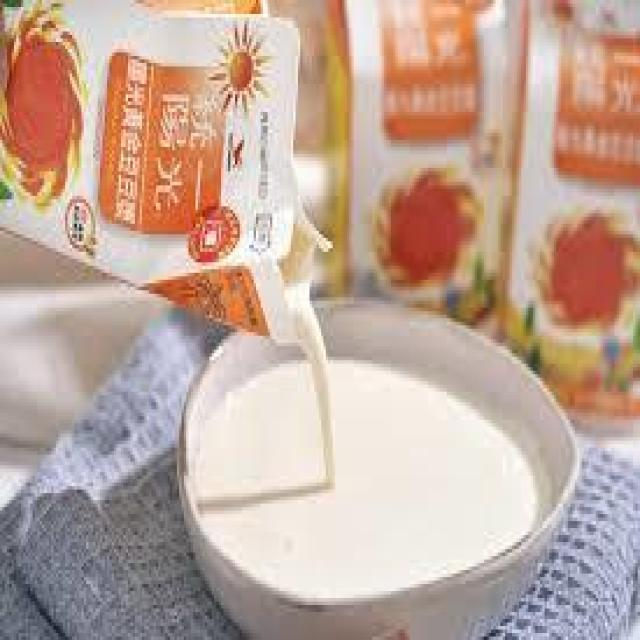TongYi_SoyMilk: (0, 0, 303, 315)
